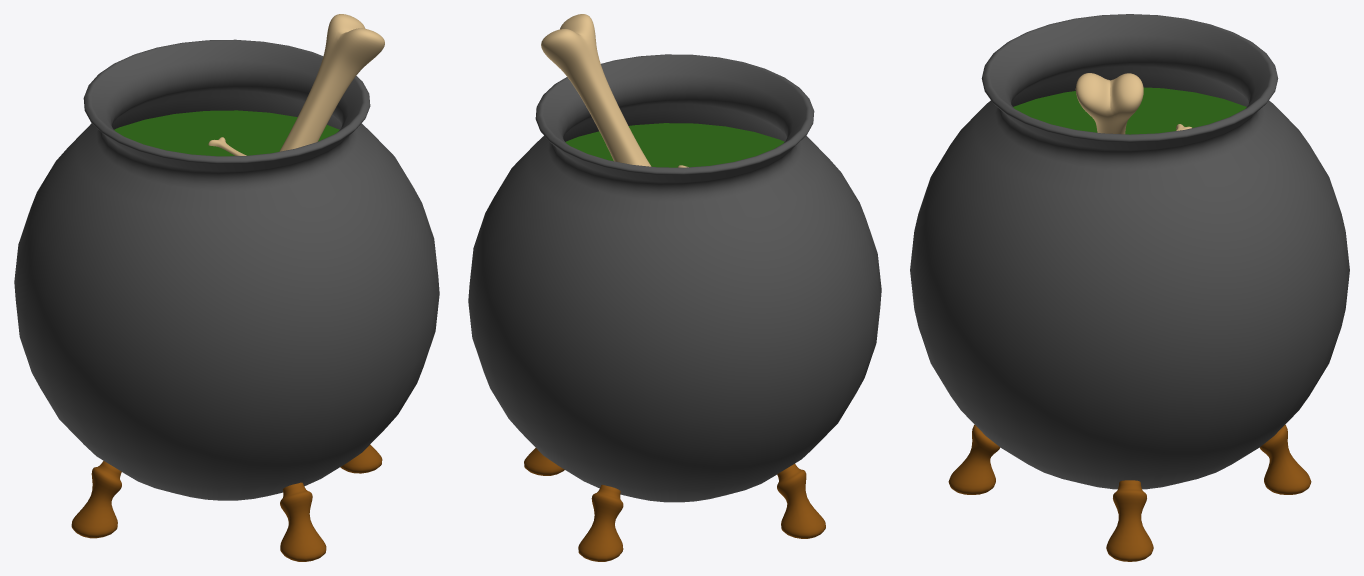
File: chaudron_low.fbx
3 views of the same model, side by side, from view 1: azimuth 30°, elevation 25°; view 2: azimuth 150°, elevation 25°; view 3: azimuth 270°, elevation 25° (orthographic). The views are drawn at different scales.
Visible parts, largest first — view 1: chaudron, liquide, os, pied; view 2: chaudron, liquide, os, pied; view 3: chaudron, pied, liquide, os.
Boxes of the visible parts, bbox=[...] form: chaudron: bbox=[14, 39, 439, 500]; liquide: bbox=[114, 110, 339, 156]; os: bbox=[208, 14, 384, 155]; pied: bbox=[71, 444, 382, 561]; chaudron: bbox=[468, 54, 881, 502]; liquide: bbox=[565, 123, 784, 167]; os: bbox=[541, 14, 688, 167]; pied: bbox=[524, 448, 825, 561]; chaudron: bbox=[910, 14, 1349, 489]; pied: bbox=[948, 424, 1311, 561]; liquide: bbox=[1013, 87, 1246, 134]; os: bbox=[1075, 73, 1191, 134].
Bounding box in the file's own units: 200 × 237 × 200.
